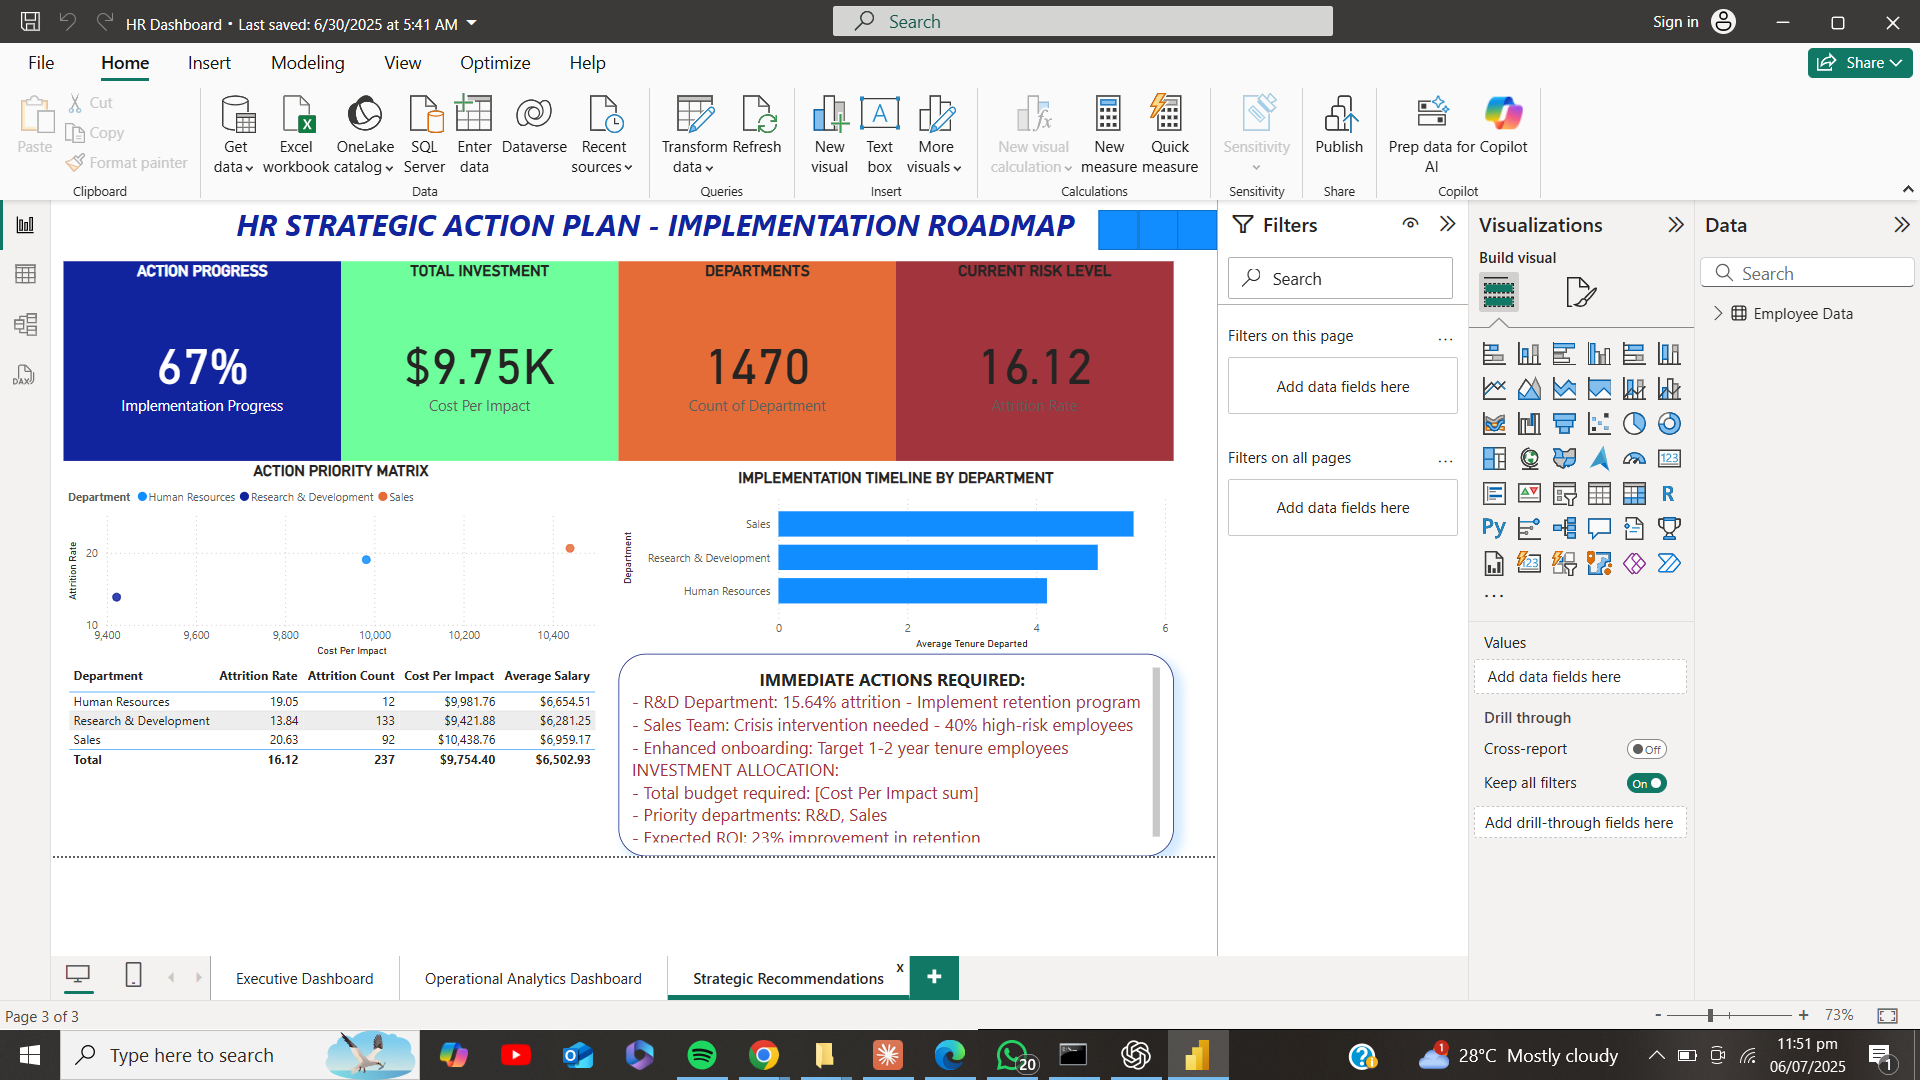

The dashboard page shown, as its layout file describes it:
{"tool":"powerbi","page":{"name":"Strategic Recommendations","canvas":[1280,720],"ordinal":2},"visuals":[{"type":"textbox","box":[72.7,0,1207.6,67.2],"z":0},{"type":"card","title":"ACTION PROGRESS","fields":{"Values":["Employee Data.Implementation Progress"]},"box":[13.7,67.2,304.6,219.6],"z":1000},{"type":"card","title":"TOTAL INVESTMENT","fields":{"Values":["Employee Data.Cost Per Impact"]},"box":[318.4,67.2,304.6,219.6],"z":2000},{"type":"card","title":"DEPARTMENTS","fields":{"Values":["CountNonNull(Employee Data.Department)"]},"box":[623,67.2,304.6,219.6],"z":3000},{"type":"card","title":"CURRENT RISK LEVEL","fields":{"Values":["Employee Data.Attrition Rate"]},"box":[927.6,67.2,304.6,219.6],"z":4000},{"type":"scatterChart","title":"ACTION PRIORITY MATRIX","fields":{"X":["Employee Data.Cost Per Impact"],"Y":["Employee Data.Attrition Rate"],"Series":["Employee Data.Department"]},"box":[13.7,286.8,609.3,219.6],"z":5000},{"type":"barChart","title":"IMPLEMENTATION TIMELINE BY DEPARTMENT","fields":{"Category":["Employee Data.Department"],"Y":["Employee Data.Average Tenure Departed"]},"box":[623,295,609.3,203.1],"z":6000},{"type":"tableEx","fields":{"Values":["Employee Data.Department","Employee Data.Attrition Rate","Employee Data.Attrition Count","Employee Data.Cost Per Impact","Employee Data.Average Salary"]},"box":[13.7,506.3,594.2,214.1],"z":7000},{"type":"textbox","box":[623,498.1,609.3,222.3],"z":8000},{"type":"shape","box":[1149.9,11,43.9,43.9],"z":9000},{"type":"shape","box":[1193.8,11,43.9,43.9],"z":9001},{"type":"shape","box":[1236.4,11,43.9,43.9],"z":9002}]}

Visuals, with their boxes on the page's 1280x720 design canvas (x1, y1, x2, y2). These are canvas units, not pixel positions in the 1920x1080 screenshot, which may show the page scaled, cropped or inside an application window:
textbox: crop(73, 0, 1280, 67)
"ACTION PROGRESS" card: crop(14, 67, 318, 287)
"TOTAL INVESTMENT" card: crop(318, 67, 623, 287)
"DEPARTMENTS" card: crop(623, 67, 928, 287)
"CURRENT RISK LEVEL" card: crop(928, 67, 1232, 287)
"ACTION PRIORITY MATRIX" scatterChart: crop(14, 287, 623, 506)
"IMPLEMENTATION TIMELINE BY DEPARTMENT" barChart: crop(623, 295, 1232, 498)
tableEx - Employee Data.Department x Employee Data.Attrition Rate: crop(14, 506, 608, 720)
textbox: crop(623, 498, 1232, 720)
shape: crop(1150, 11, 1194, 55)
shape: crop(1194, 11, 1238, 55)
shape: crop(1236, 11, 1280, 55)
